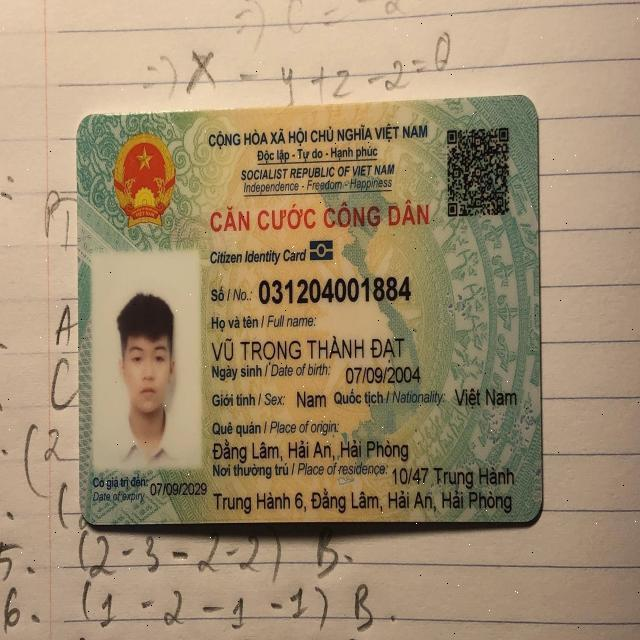current_place: (211, 481, 515, 516), (388, 462, 518, 489)
dob: (342, 363, 428, 388)
expire_date: (149, 479, 210, 497)
gender: (291, 385, 331, 410)
id: (254, 275, 416, 306)
name: (208, 336, 413, 363)
nationality: (451, 386, 523, 414)
origin_place: (209, 438, 417, 462)
